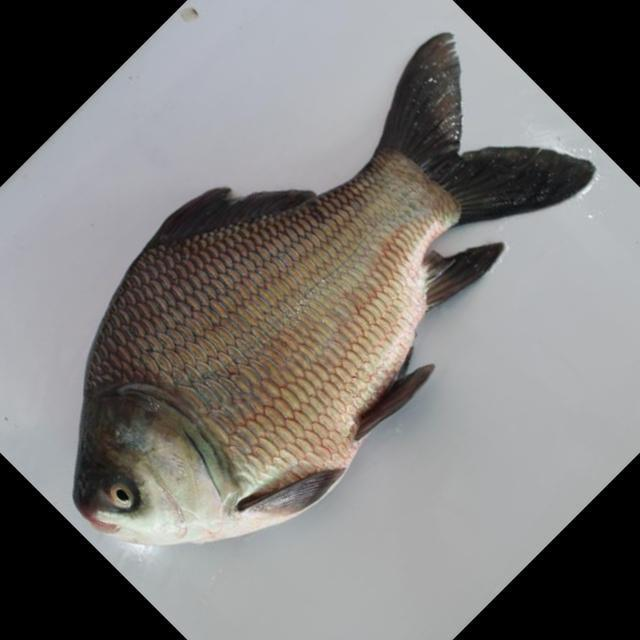Catla: (70, 32, 604, 555)
